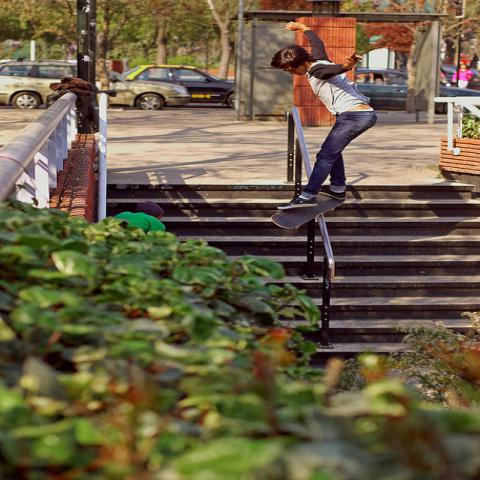car: (122, 64, 235, 108), (356, 72, 479, 110), (0, 60, 77, 110), (105, 68, 190, 110)
